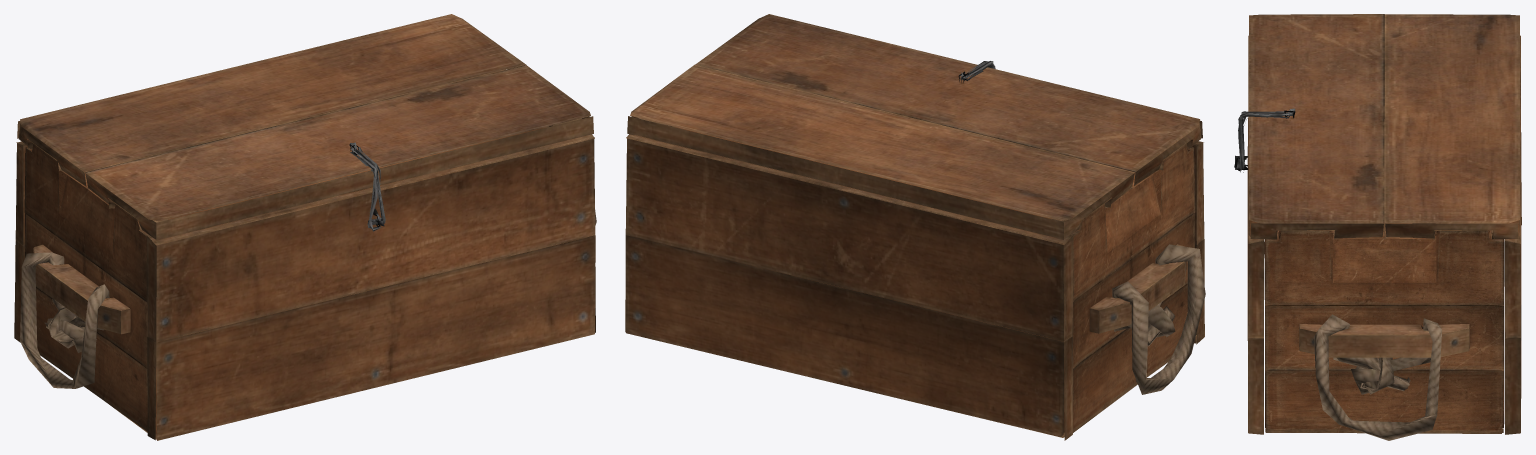
The model's file is wooden_crate.glb.
3 renders of one model, left to right at view 1: azimuth 30°, elevation 25°; view 2: azimuth 150°, elevation 25°; view 3: azimuth 270°, elevation 25°, orthographic. The views are drawn at different scales.
Visible parts, largest first — view 1: wooden_crate; view 2: wooden_crate; view 3: wooden_crate.
Boxes of the visible parts, x1=… form: wooden_crate: x1=14, y1=14, x2=596, y2=440; wooden_crate: x1=625, y1=14, x2=1205, y2=440; wooden_crate: x1=1234, y1=14, x2=1521, y2=440.
Size of the model in its own units: 0.8222 by 0.3493 by 0.4075.
1 material, 1 textured.
